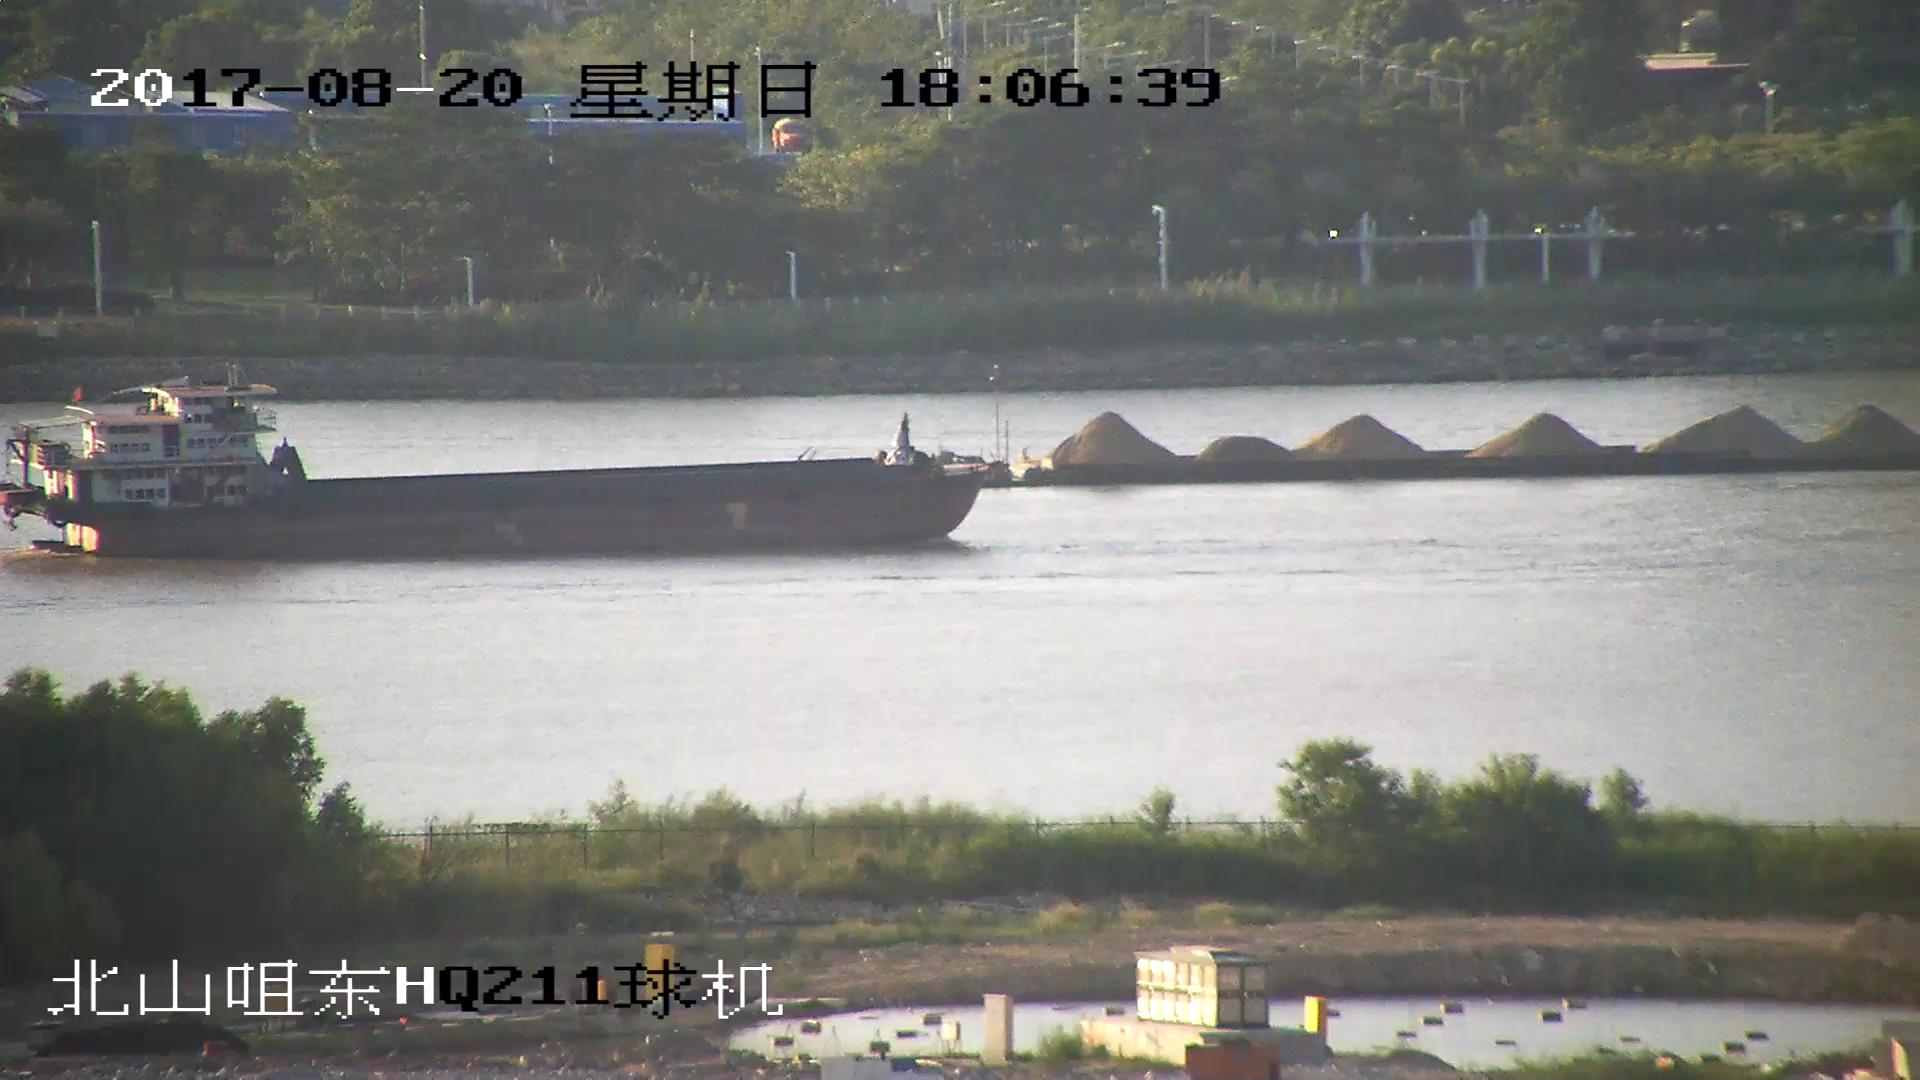bulk cargo carrier: (1, 383, 1001, 554)
ore carrier: (802, 401, 1920, 485)
